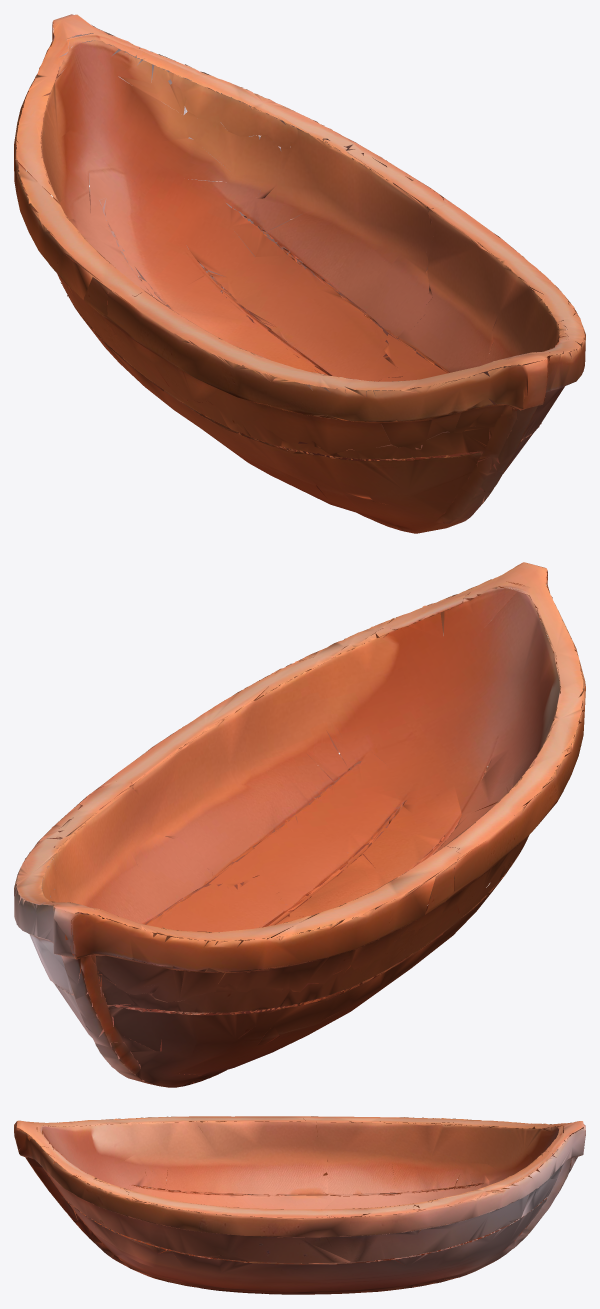
File: boat.glb
3 views of the same model, one above another, from view 1: azimuth 30°, elevation 25°; view 2: azimuth 150°, elevation 25°; view 3: azimuth 270°, elevation 25° (orthographic). The views are drawn at different scales.
Parts seen in each view (by area): view 1: model; view 2: model; view 3: model.
Boxes of the visible parts, x1,y1,x2,y2 form: model: [14, 14, 585, 533]; model: [14, 562, 585, 1087]; model: [14, 1116, 585, 1294].
Size of the model in its own units: 0.7772 by 0.5987 by 1.84.
Materials: 1 (1 with a texture image).
